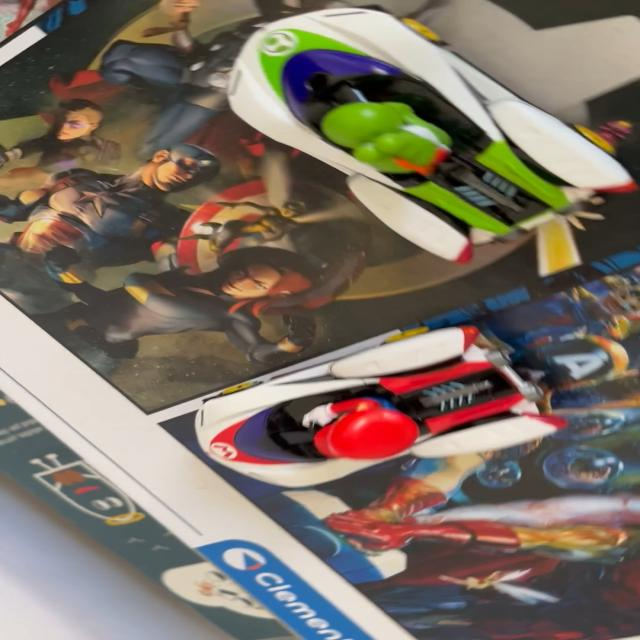mario: (168, 310, 586, 504)
yoshi: (195, 1, 640, 287)
